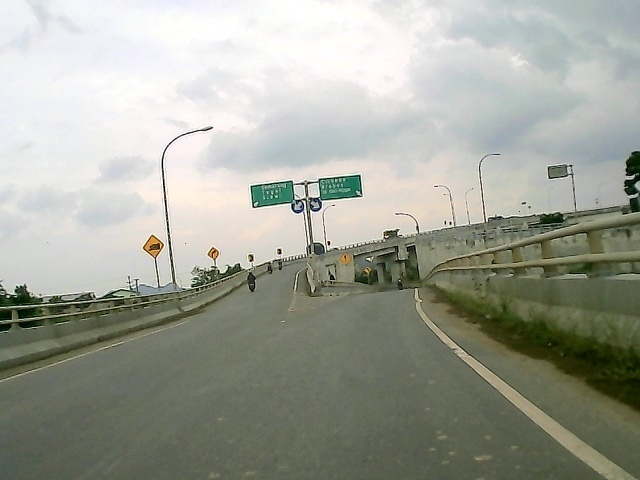Hati-hati: (340, 254, 352, 266)
Jalanan menanjak: (142, 233, 166, 259)
Tikungan ke kanan: (206, 245, 222, 262)
